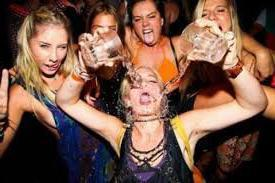Drunk: (33, 24, 66, 74), (129, 69, 162, 113), (132, 4, 162, 44)
